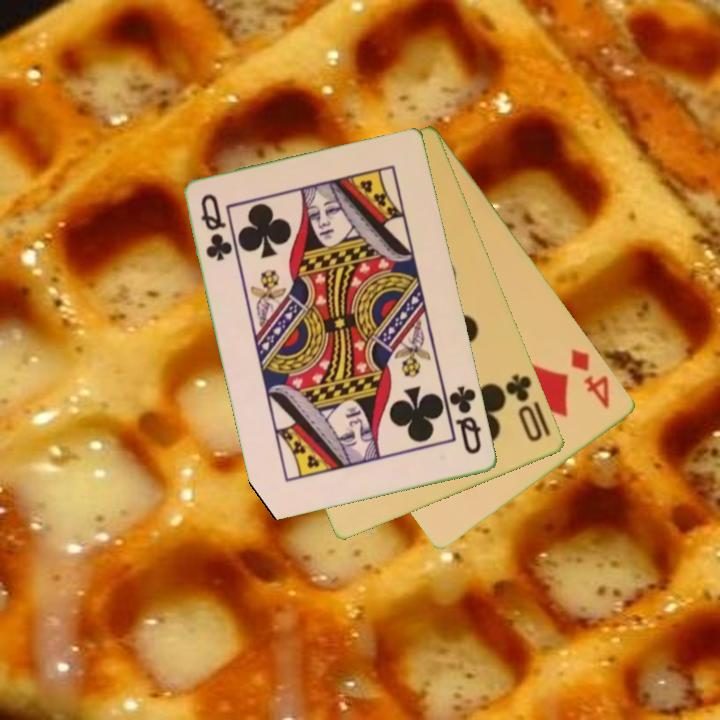10c: (502, 370, 546, 445)
4d: (567, 345, 613, 411)
Qc: (446, 382, 485, 458), (197, 190, 235, 265)
